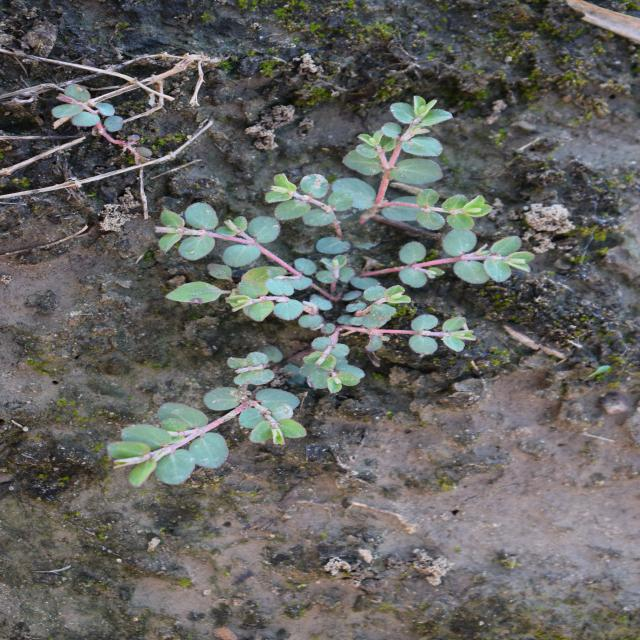SpottedSpurge: (101, 92, 540, 490), (47, 83, 155, 166)
